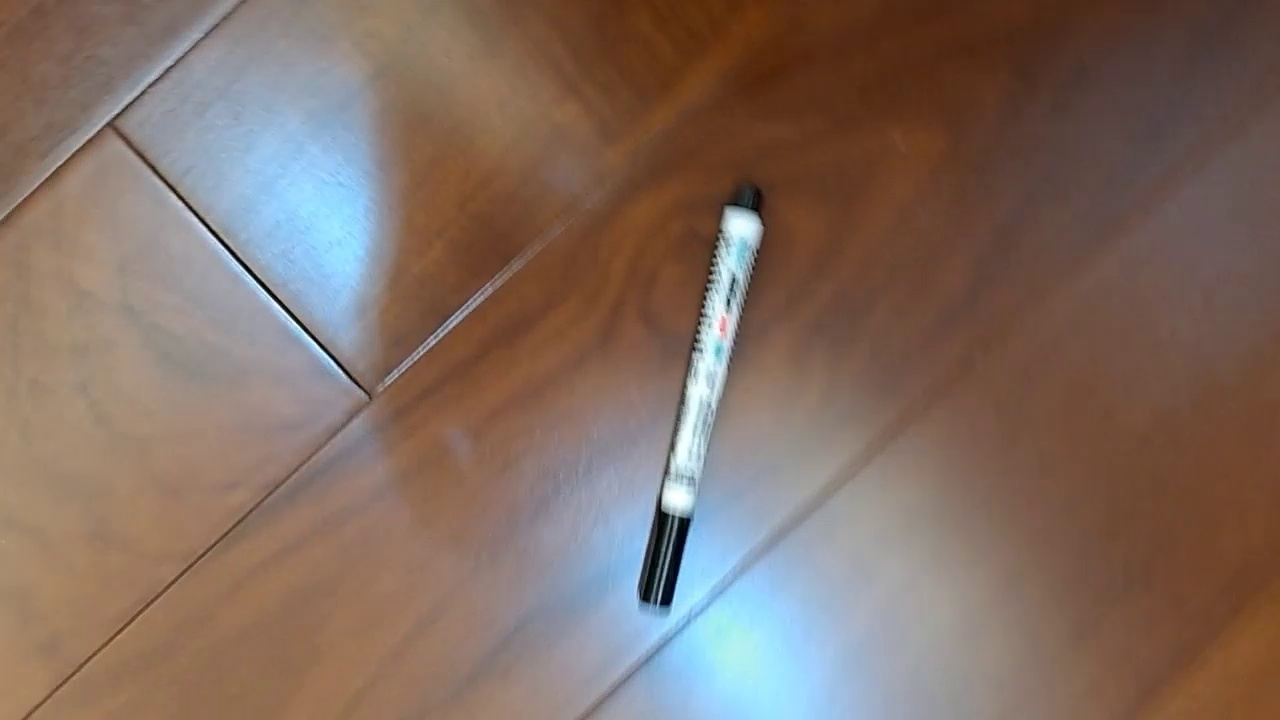pen: (636, 179, 766, 617)
